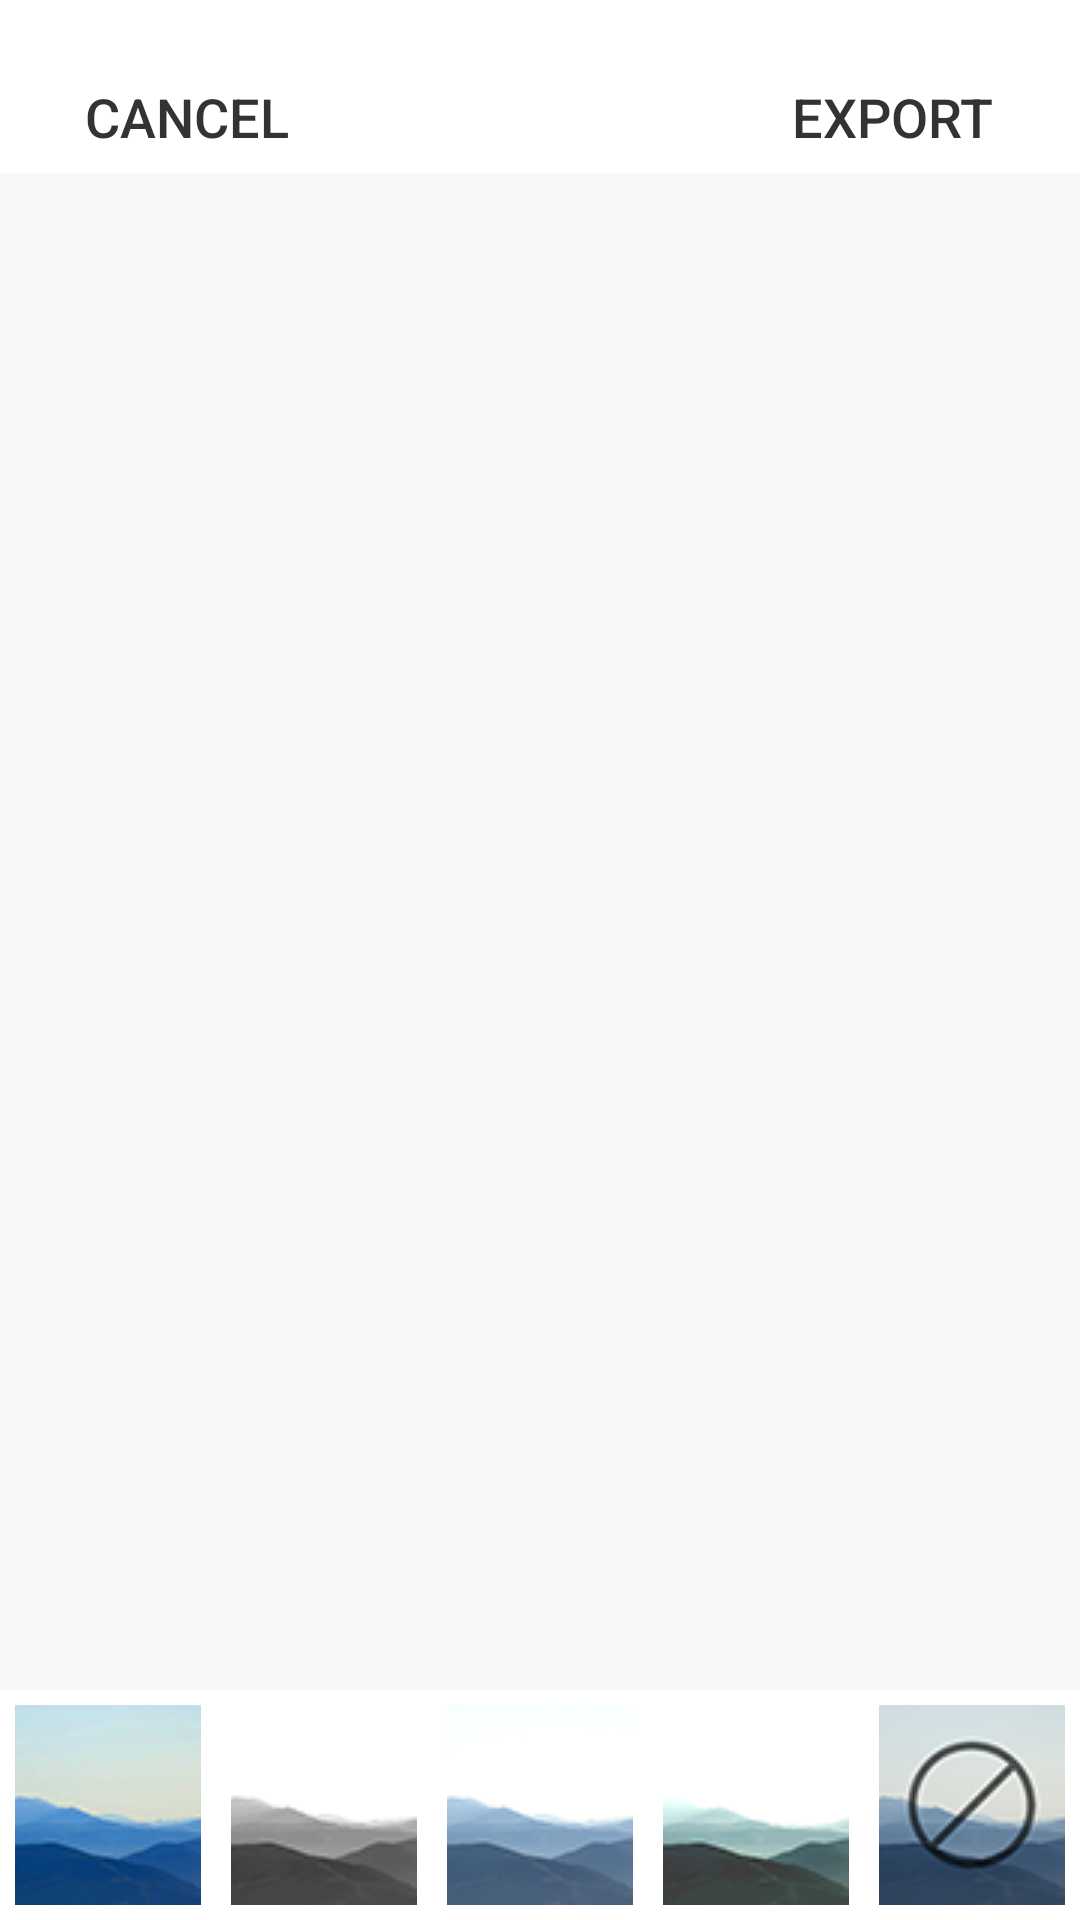

Icon bounding boxes for this 1080×1920 phone screenshot, format {"left": x1, "top": y1, "right": x2, "bottom": y2}:
filt: {"left": 15, "top": 1705, "right": 201, "bottom": 1905}, {"left": 231, "top": 1796, "right": 417, "bottom": 1905}, {"left": 447, "top": 1796, "right": 633, "bottom": 1905}, {"left": 663, "top": 1802, "right": 849, "bottom": 1905}
none: {"left": 879, "top": 1705, "right": 1065, "bottom": 1905}
